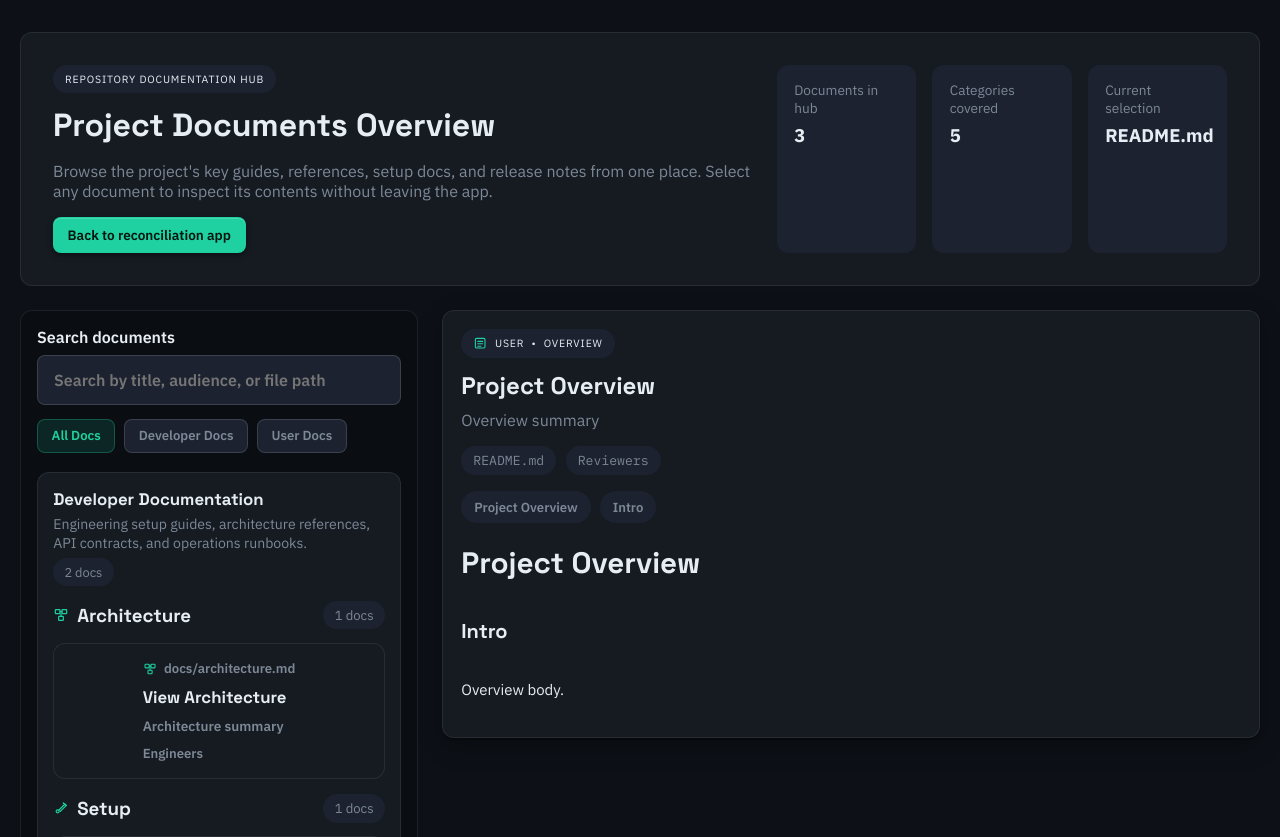
Test: DocsOverview › filters the document list and falls back to the first visible document
The image size is (1280, 837).
Expected: the 2nd heading "Project Overview" is shown, [461,544,700,582]
Type "setup" into the field labelled "Search documents".
click(219, 380); type("setup")  # box [37,355,401,405]
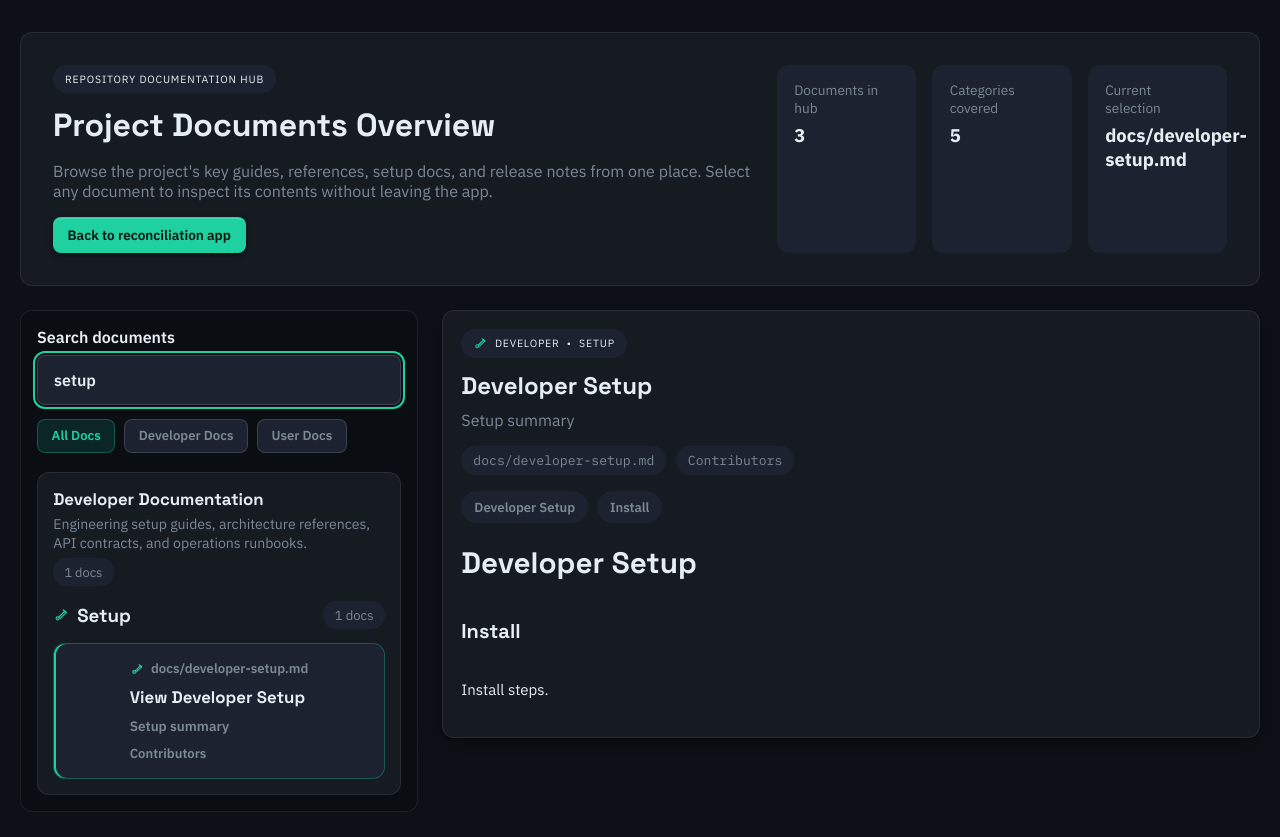
Expected: the button "View Developer Setup" is shown, [53,643,385,779]
Result: the 2nd heading "Developer Setup" is shown at [461,544,697,582]
